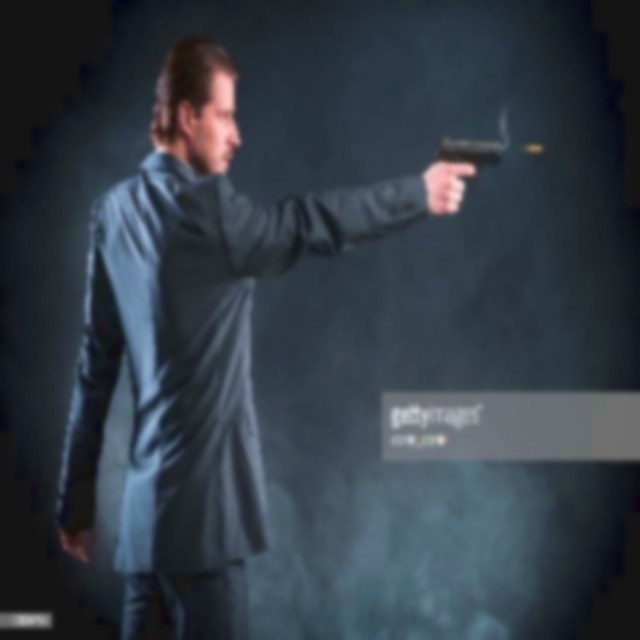gun: (430, 132, 508, 171)
